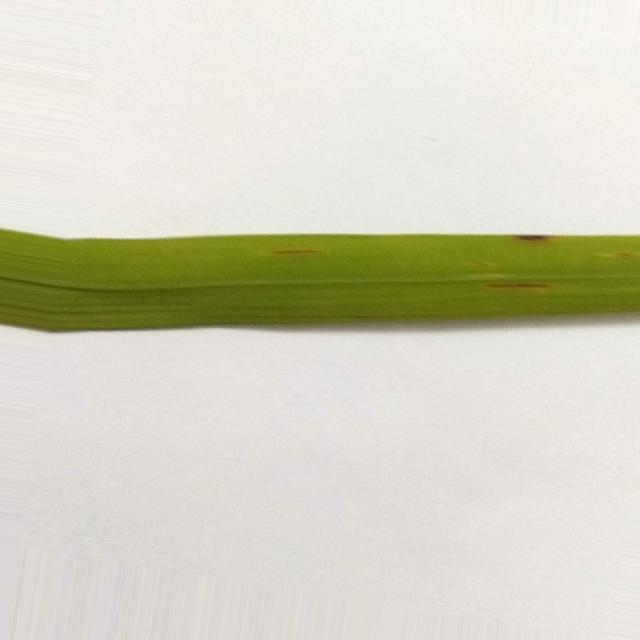Brown_Spot: (486, 284, 550, 289), (269, 249, 319, 255), (514, 235, 550, 241), (612, 252, 634, 258)
